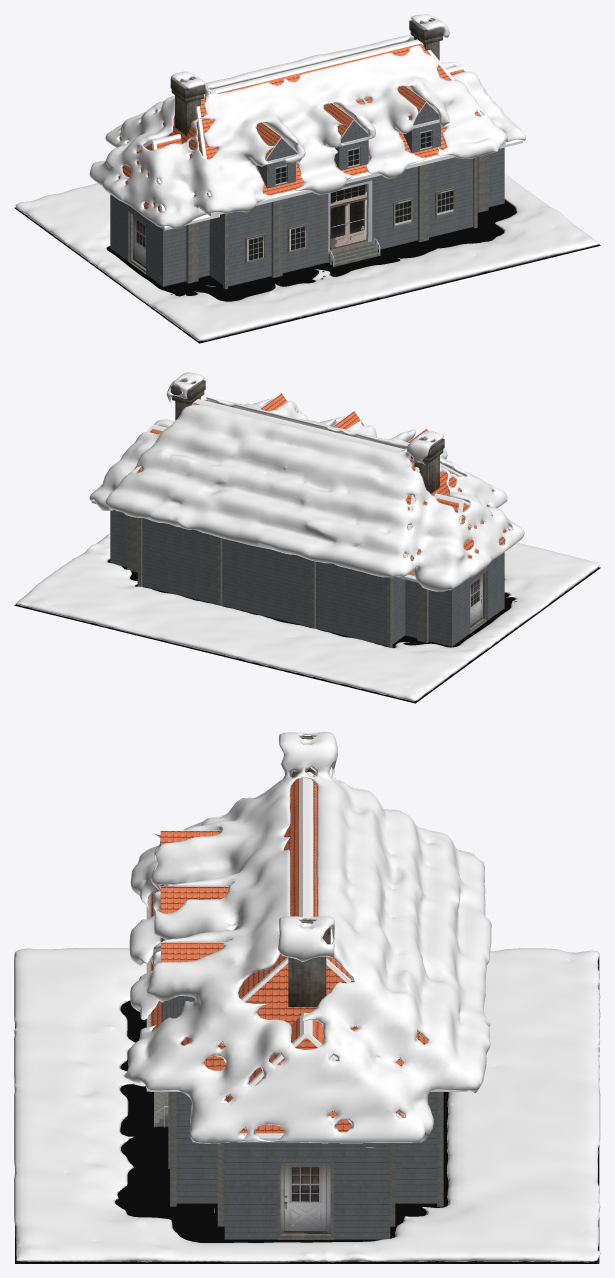
File: House_S5P1.glb
The picture shows the model from 3 angles, top to bottom: view 1: azimuth 30°, elevation 25°; view 2: azimuth 150°, elevation 25°; view 3: azimuth 270°, elevation 25°; orthographic projection. The views are drawn at different scales.
Parts seen in each view (by area): view 1: SnowMesh, House1, Plane; view 2: SnowMesh, House1, Plane; view 3: SnowMesh, House1, Plane.
Boxes of the visible parts, bbox=[...] form: SnowMesh: bbox=[15, 14, 599, 341]; House1: bbox=[110, 19, 523, 289]; Plane: bbox=[14, 200, 600, 343]; SnowMesh: bbox=[16, 372, 599, 701]; House1: bbox=[91, 380, 512, 647]; Plane: bbox=[14, 559, 600, 703]; SnowMesh: bbox=[14, 732, 600, 1262]; House1: bbox=[146, 736, 467, 1239]; Plane: bbox=[15, 956, 599, 1263].
Bounding box in the file's own units: 10.03 × 4.27 × 8.04.
12 materials, 9 textured.
